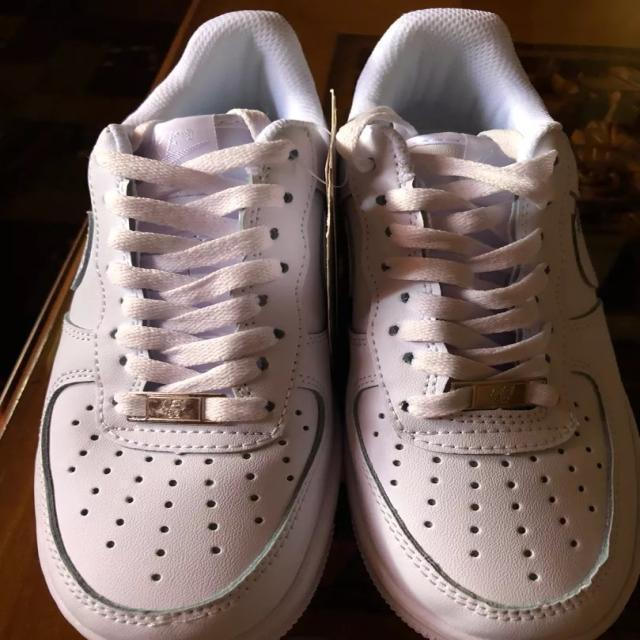nike fake air force: (327, 4, 639, 640), (39, 5, 341, 640)
